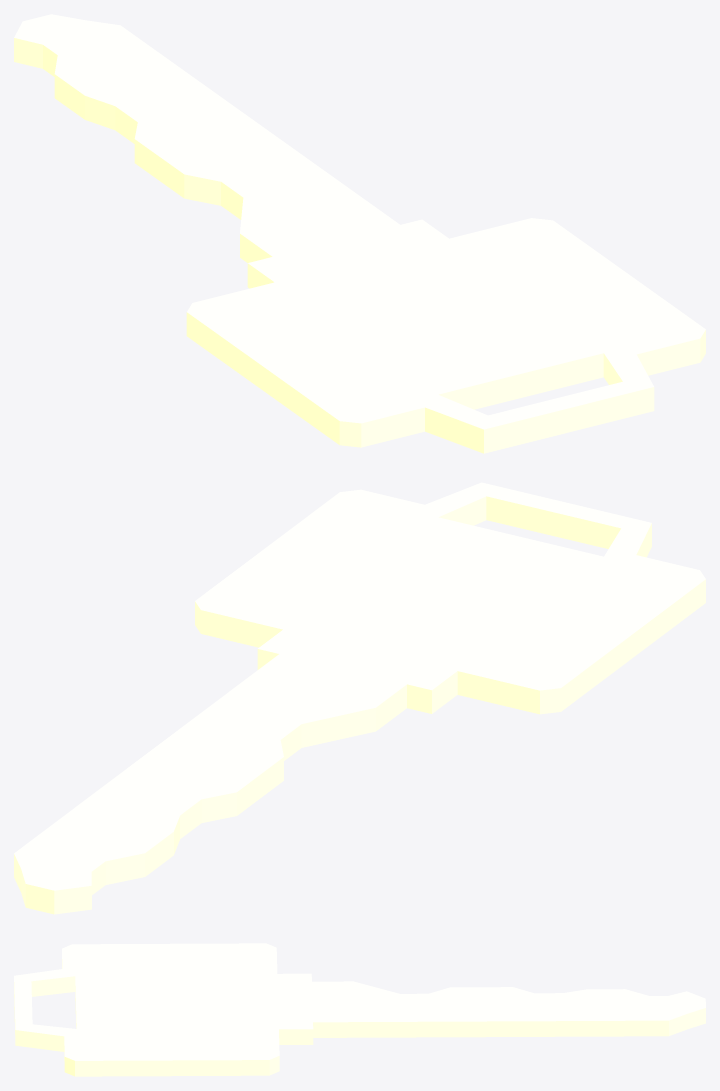
The model's file is key.gltf.
3 views of the same model, one above another, from view 1: azimuth 30°, elevation 25°; view 2: azimuth 150°, elevation 25°; view 3: azimuth 270°, elevation 25° (orthographic). The views are drawn at different scales.
Visible parts, largest first — view 1: sinkKey; view 2: sinkKey; view 3: sinkKey.
Part boxes in pixels (x1,y1,x2,y2): sinkKey: [14, 14, 705, 453]; sinkKey: [14, 482, 705, 914]; sinkKey: [14, 943, 705, 1076].
Size of the model in its own units: 0.0355 by 0.00221 by 0.0883.
